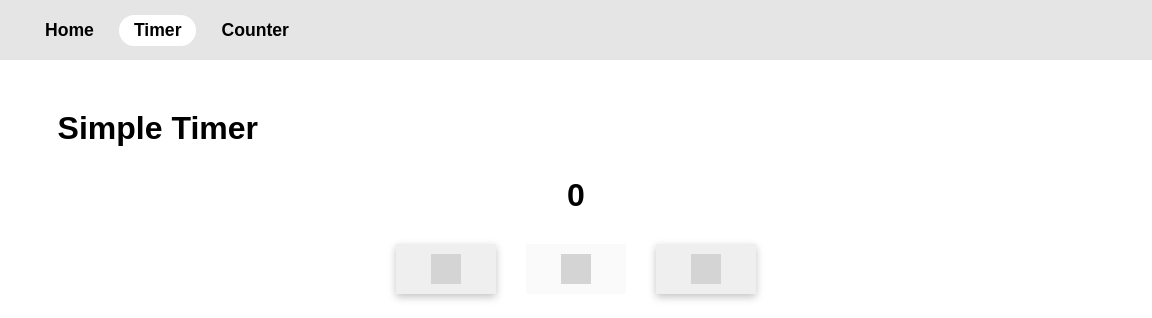
it: App renders correctly › Counter works correctly
This screenshot has width=1152, height=318.
Click the link "Counter" at (255, 30), box [222, 20, 289, 40]
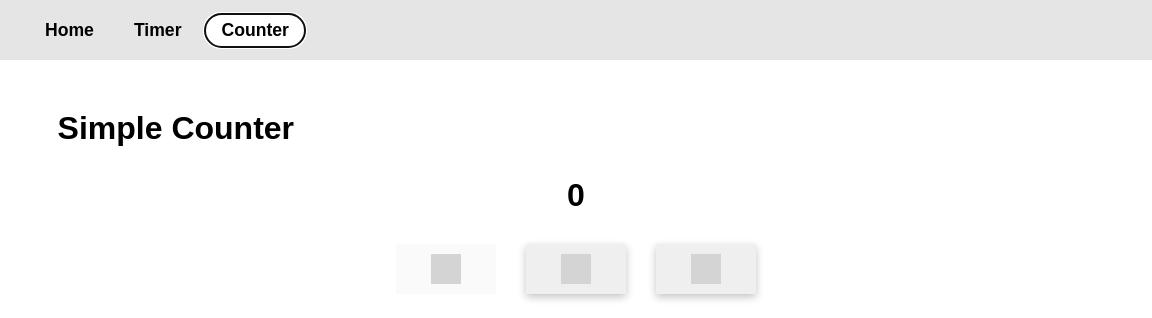
Double-click the 2nd button with alt text "inc" at (576, 269), box [526, 244, 626, 294]
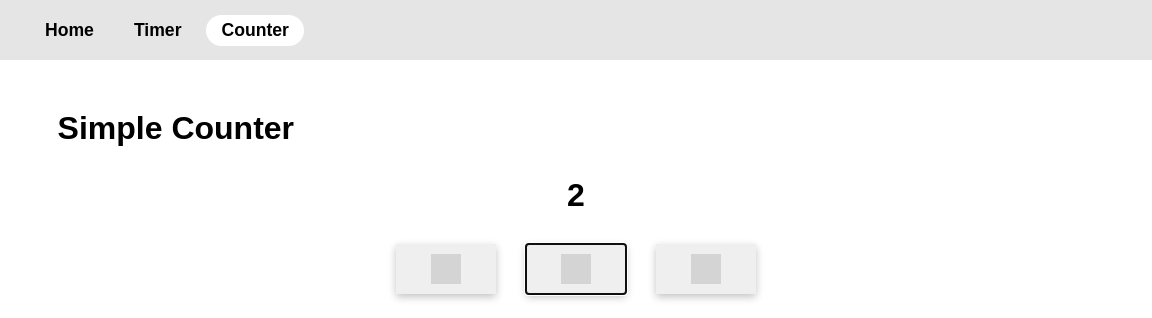
Now the text "2" is shown, box [567, 177, 585, 214]
Click the 1st button with alt text "dec" at (446, 269), box [396, 244, 496, 294]
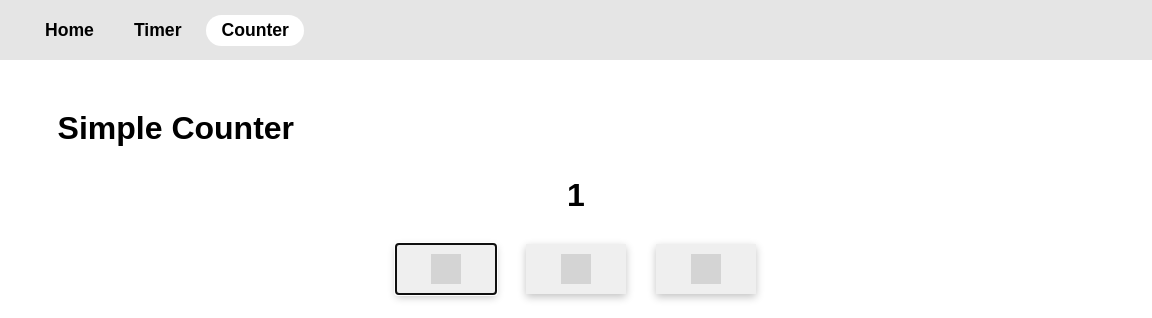
Now the text "1" is shown, box [567, 177, 585, 214]
Click the 3rd button with alt text "reset" at (706, 269), box [656, 244, 756, 294]
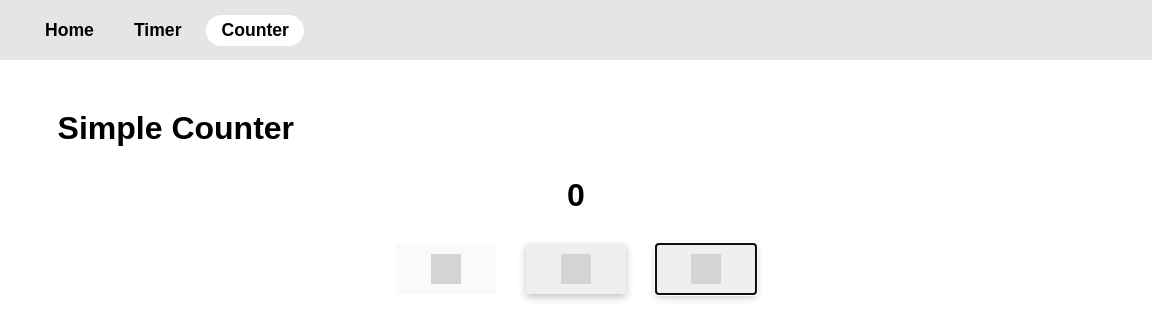
Now the text "0" is shown, box [567, 177, 585, 214]
